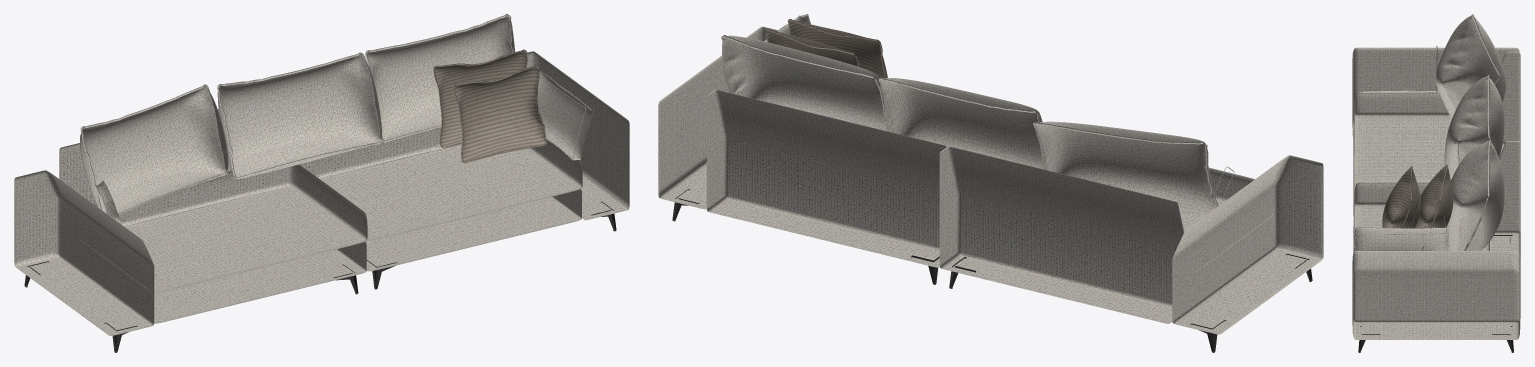
The model's file is straight.glb.
The picture shows the model from 3 angles, left to right: view 1: azimuth 30°, elevation 25°; view 2: azimuth 150°, elevation 25°; view 3: azimuth 270°, elevation 25°; orthographic projection. The views are drawn at different scales.
Visible parts, largest first — view 1: fabric, pillows, legs; view 2: fabric, pillows, legs; view 3: fabric, pillows, legs.
Boxes of the visible parts, <box> form: fabric: <box>14,14,629,336</box>; pillows: <box>433,49,546,163</box>; legs: <box>24,201,616,352</box>; fabric: <box>658,14,1323,334</box>; pillows: <box>765,19,887,78</box>; legs: <box>672,189,1312,352</box>; fabric: <box>1352,14,1520,339</box>; pillows: <box>1382,164,1453,250</box>; legs: <box>1358,235,1513,352</box>.
Size of the model in its own units: 3.09 by 0.957 by 1.01.
3 materials, 2 textured.
